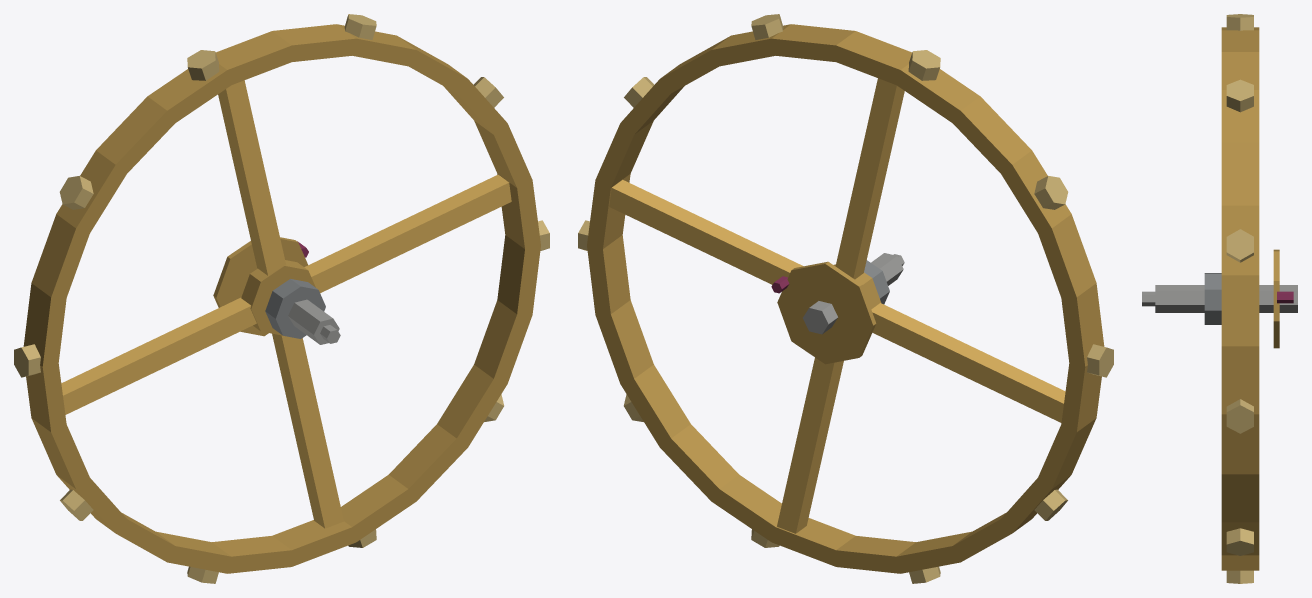
File: Balance.glb
3 views of the same model, side by side, from view 1: azimuth 30°, elevation 25°; view 2: azimuth 150°, elevation 25°; view 3: azimuth 270°, elevation 25° (orthographic). The views are drawn at different scales.
Visible parts, largest first — view 1: Balance; view 2: Balance; view 3: Balance.
Boxes of the visible parts, <box> form: Balance: <box>14,14,549,583</box>; Balance: <box>578,14,1113,583</box>; Balance: <box>1142,14,1297,583</box>.
Size of the model in its own units: 0.684 by 0.6623 by 0.187.
